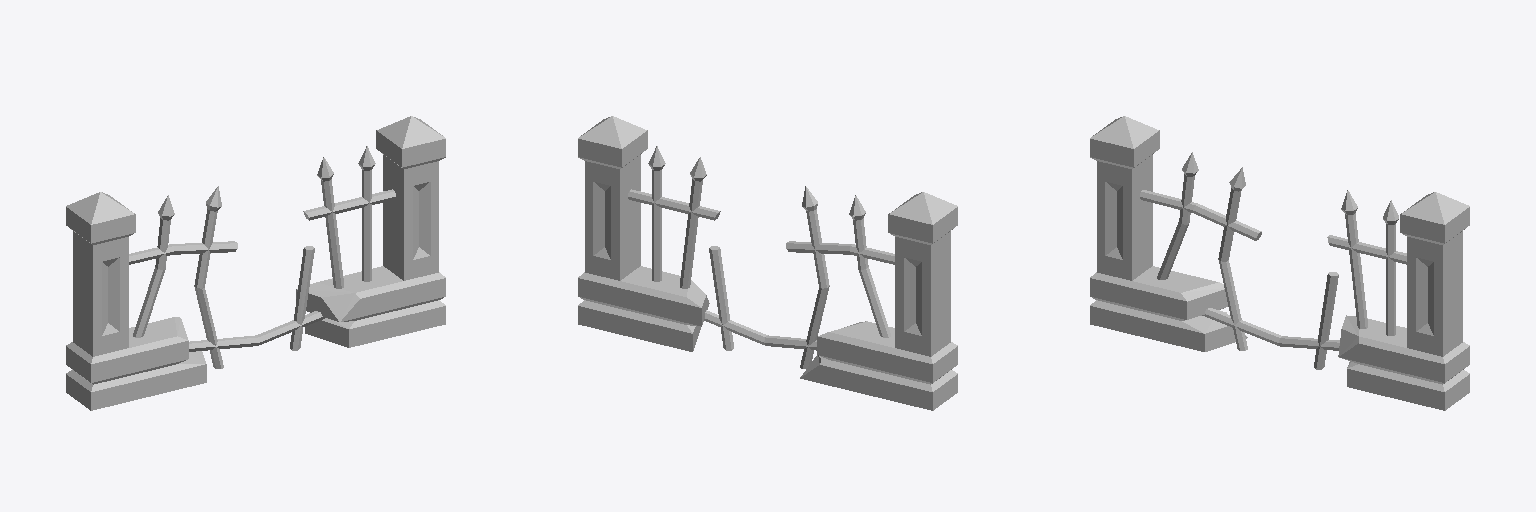
File: fence_broken.obj
The picture shows the model from 3 angles: view 1: azimuth 30°, elevation 25°; view 2: azimuth 150°, elevation 25°; view 3: azimuth 330°, elevation 25°; orthographic projection.
Visible parts, largest first — view 1: fence_broken_Cube.071; view 2: fence_broken_Cube.071; view 3: fence_broken_Cube.071.
Boxes of the visible parts, <box> form: fence_broken_Cube.071: <box>66,116,445,410</box>; fence_broken_Cube.071: <box>578,116,957,410</box>; fence_broken_Cube.071: <box>1090,116,1469,410</box>.
Bounding box in the file's own units: 4 × 2.2 × 0.5.